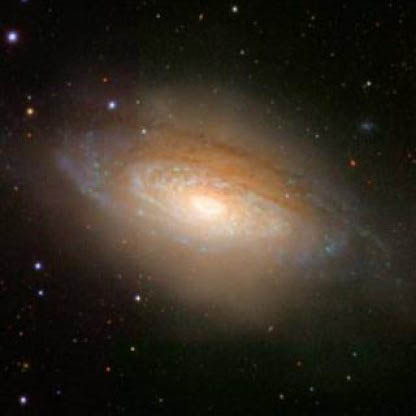NGC 3521: (7, 30, 380, 306)
